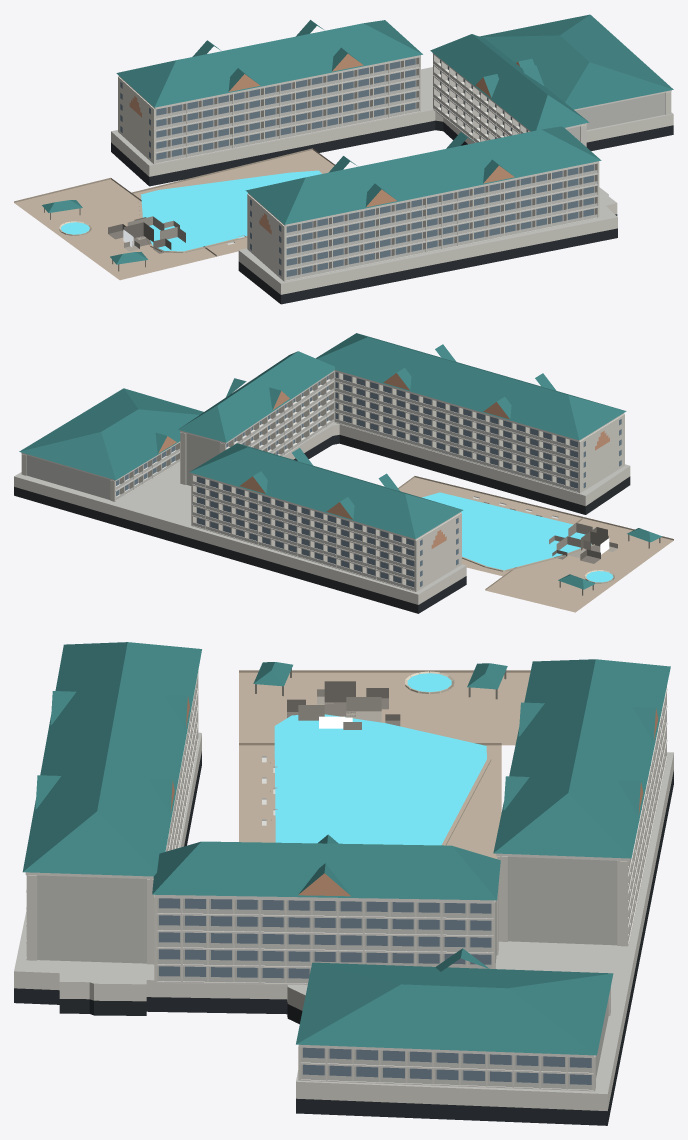
File: m_marriottoceanclub.glb
3 views of the same model, one above another, from view 1: azimuth 30°, elevation 25°; view 2: azimuth 150°, elevation 25°; view 3: azimuth 270°, elevation 25° (orthographic). The views are drawn at different scales.
Parts seen in each view (by area): view 1: m_marriottoceanclub_lod0; view 2: m_marriottoceanclub_lod0; view 3: m_marriottoceanclub_lod0.
Boxes of the visible parts, x1,y1,x2,y2 form: m_marriottoceanclub_lod0: (14,14,673,304); m_marriottoceanclub_lod0: (14,333,673,613); m_marriottoceanclub_lod0: (14,642,673,1125).
Size of what is drawn, in the model's own units: 167 by 27.3 by 106.
